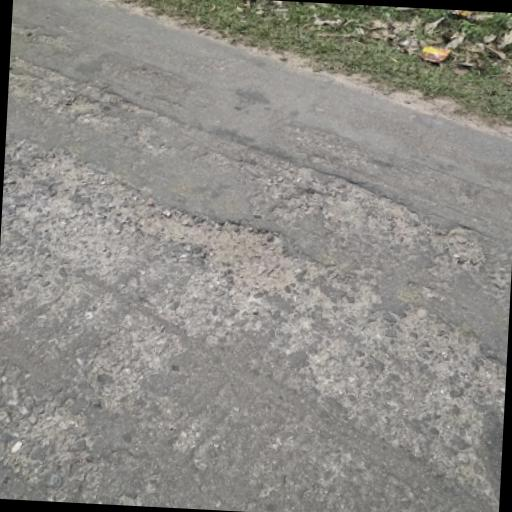pothole: (130, 204, 304, 288), (283, 165, 430, 239), (438, 224, 486, 272)
